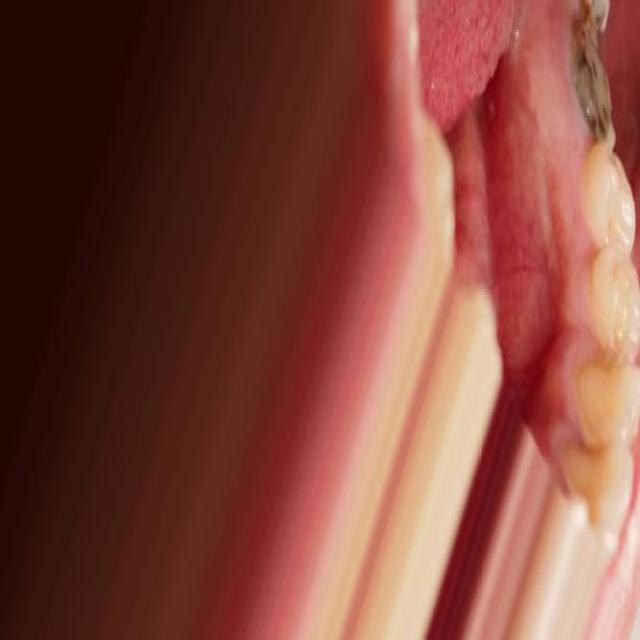caries: (574, 0, 620, 145)
